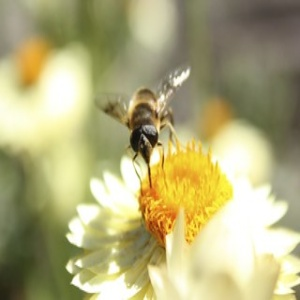bee: (90, 63, 194, 201)
